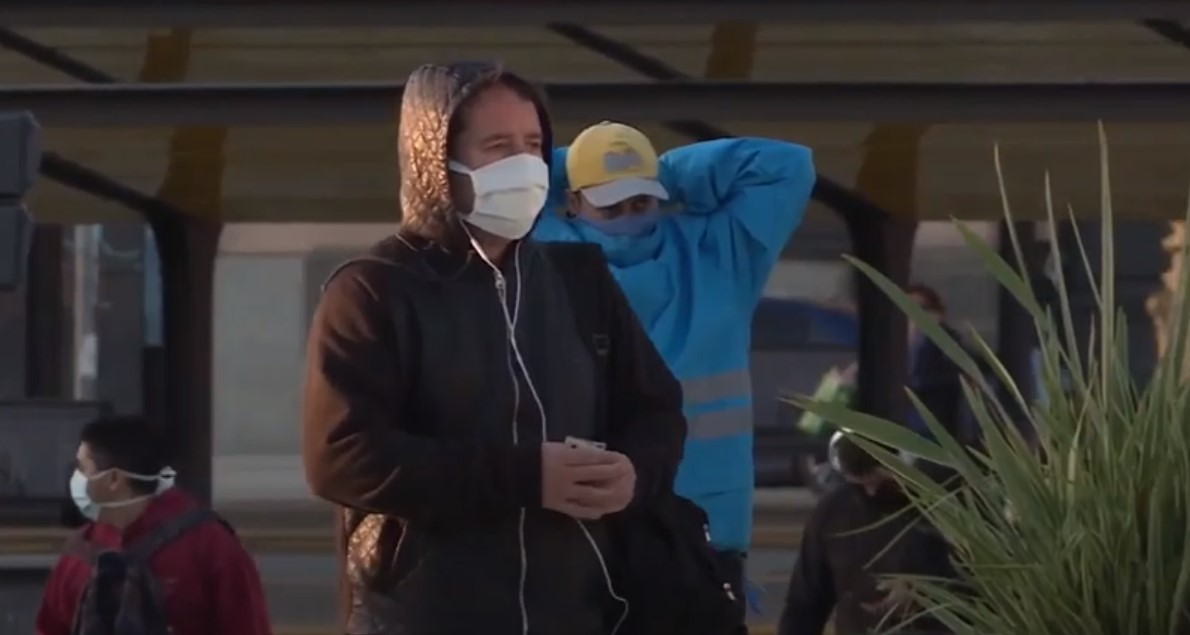face_with_mask: (412, 69, 557, 254), (572, 118, 680, 258), (70, 423, 162, 524)
